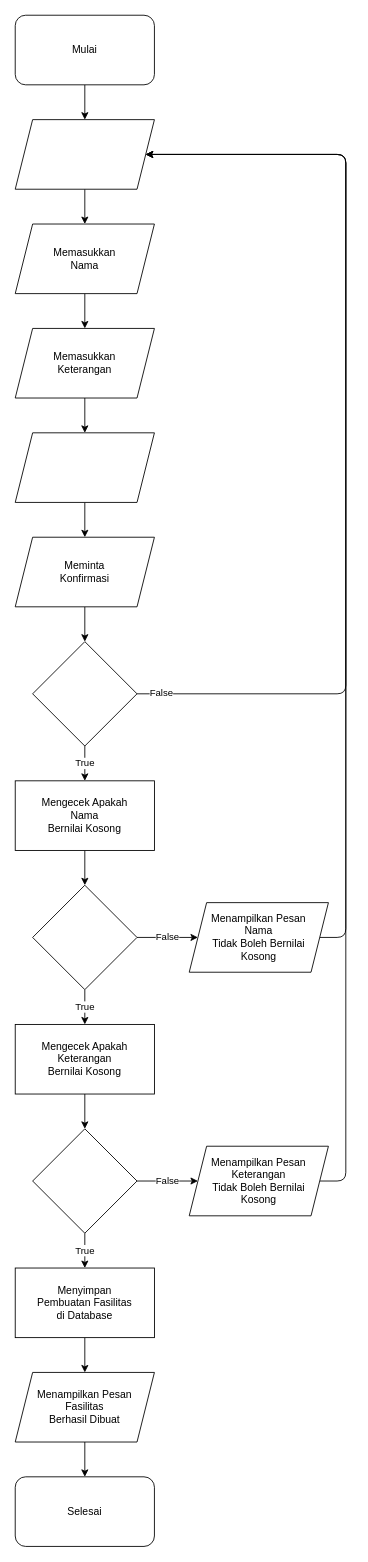
Image size: 368x1562. Some labels were removed from this diagram. Each missing label, with the centre of its shape:
Keterangan Tidak Bernilai Kosong?: (x=84, y=1180)
Konfirmasi Iya?: (x=84, y=693)
Menampilkan Halaman Manajemen Fasilitas: (x=84, y=154)
Menekan Tombol Buat: (x=84, y=467)
Nama Tidak Bernilai Kosong?: (x=84, y=937)
